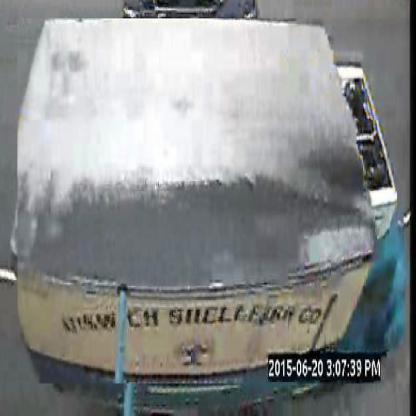truck: (19, 19, 412, 386)
